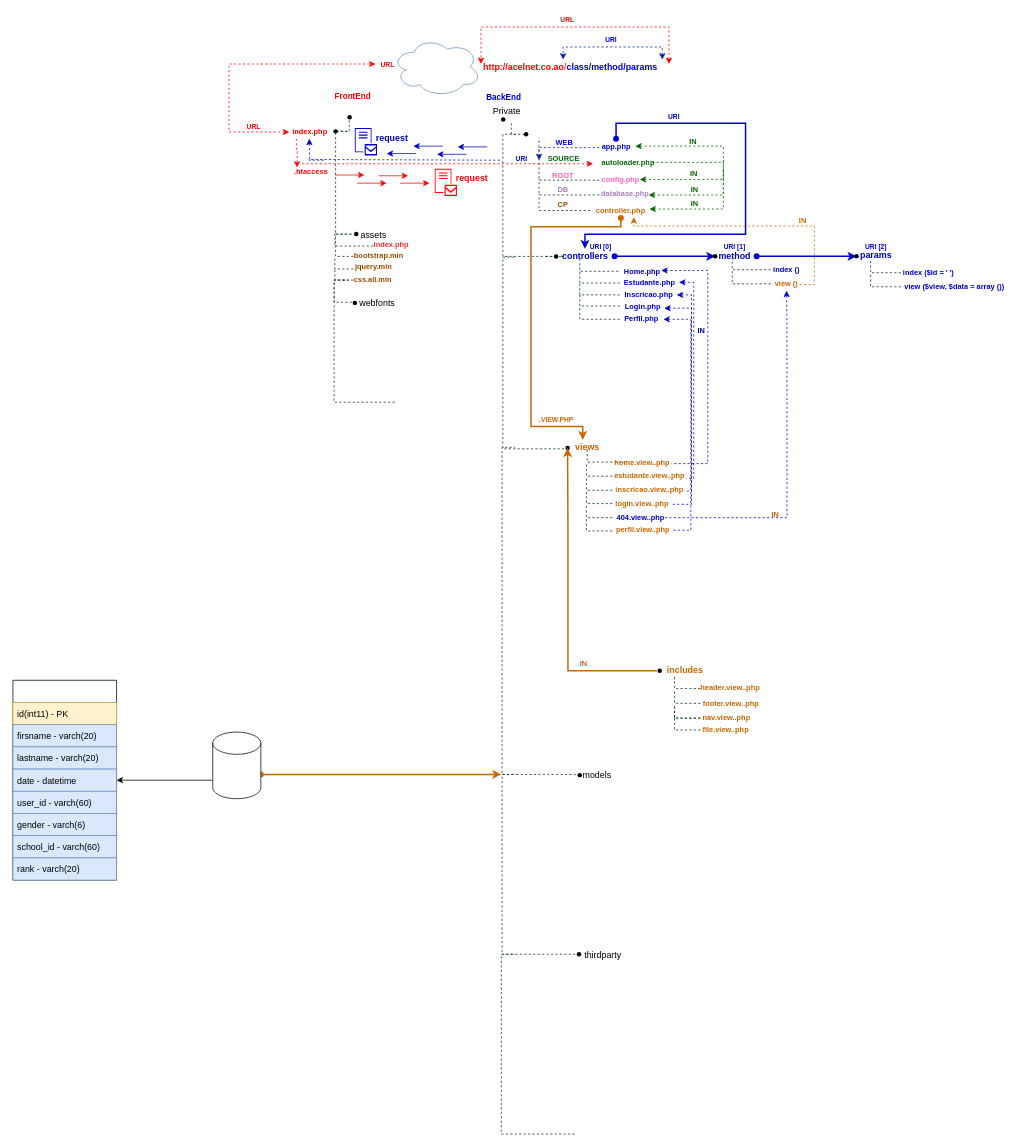
The diagram is 1024 pixels wide and 1148 high, and some of its shapes have lost their labels. Each missing label, with the box of its shape:
core: (511, 119, 541, 149)
Public: (334, 102, 364, 132)
udemy_db: (212, 731, 261, 799)
users: (12, 680, 117, 880)
WWW: (391, 37, 481, 97)
